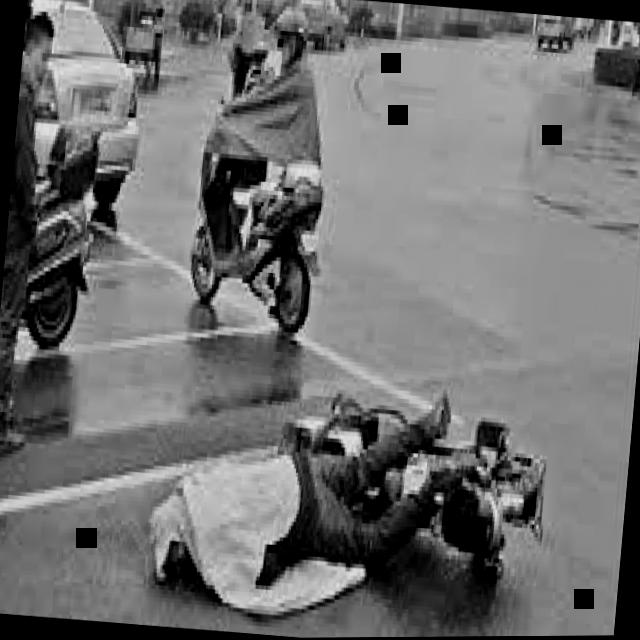Fall-Detected: (132, 340, 468, 639)
